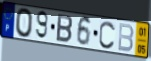6: (75, 15, 93, 49)
9: (34, 10, 49, 41)
B: (55, 13, 74, 45), (117, 22, 135, 53)
C: (98, 20, 116, 50)
O: (15, 7, 34, 39)
